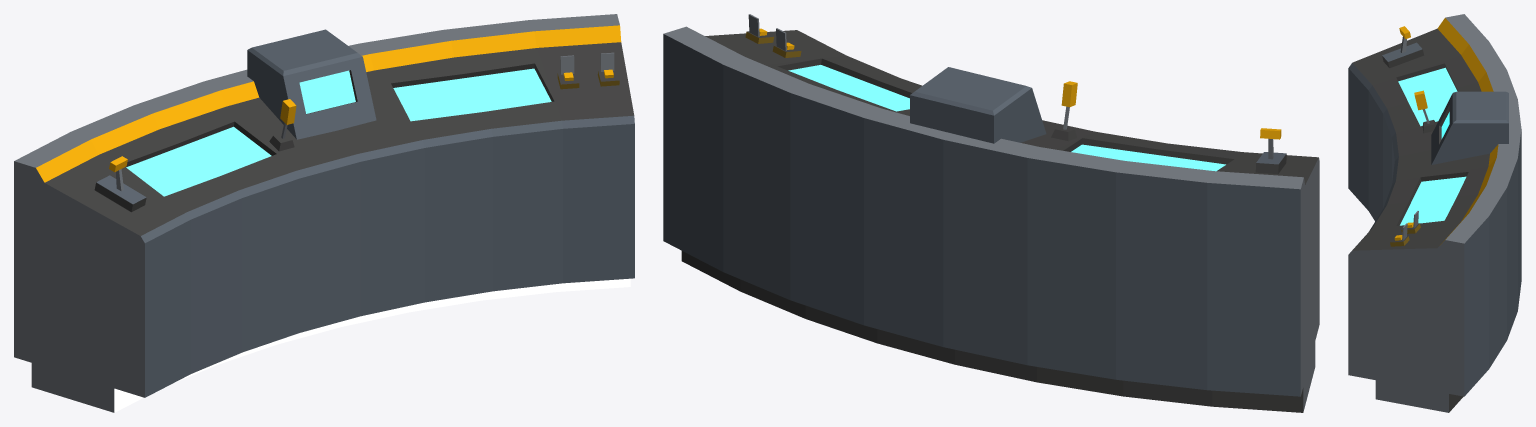
Rendered from helm_arc.glb.
The picture shows the model from 3 angles, left to right: view 1: azimuth 30°, elevation 25°; view 2: azimuth 150°, elevation 25°; view 3: azimuth 270°, elevation 25°; orthographic projection. The views are drawn at different scales.
Visible parts, largest first — view 1: helm_arc; view 2: helm_arc; view 3: helm_arc.
Part boxes in pixels (x1,y1,x2,y2): helm_arc: (14, 14, 634, 412); helm_arc: (663, 14, 1319, 412); helm_arc: (1348, 14, 1521, 412).
Bounding box in the file's own units: 2.57 × 1.02 × 0.8194.
